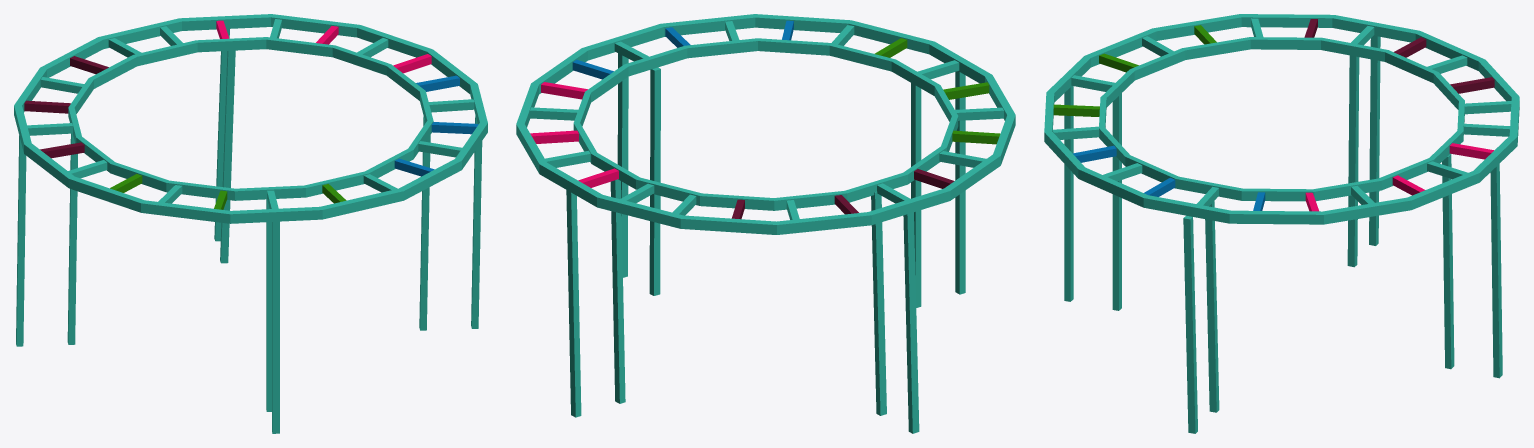
File: SM_horizontal_bar_04.glb
3 views of the same model, side by side, from view 1: azimuth 30°, elevation 25°; view 2: azimuth 150°, elevation 25°; view 3: azimuth 270°, elevation 25° (orthographic). The views are drawn at different scales.
Visible parts, largest first — view 1: SM_horizontal_bar_04; view 2: SM_horizontal_bar_04; view 3: SM_horizontal_bar_04.
Boxes of the visible parts, box(x1,y1,x2,y2) form: SM_horizontal_bar_04: box(14, 14, 487, 433); SM_horizontal_bar_04: box(516, 14, 1015, 433); SM_horizontal_bar_04: box(1044, 14, 1519, 433).
Bounding box in the file's own units: 4 × 2.12 × 4.
1 material, 1 textured.
